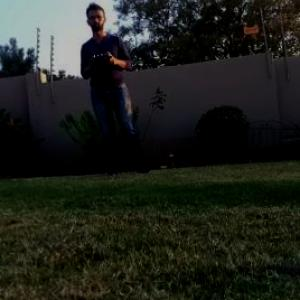follow: (76, 0, 158, 180)
